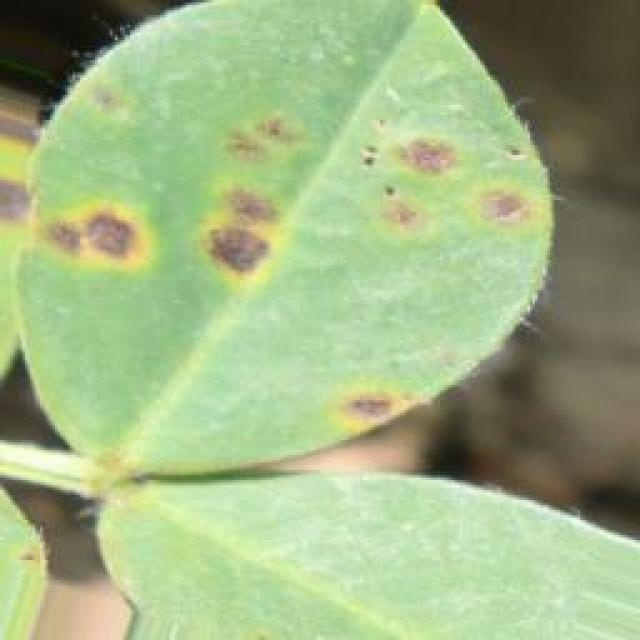Sigatoka: (190, 181, 286, 290), (39, 199, 141, 281), (325, 375, 430, 446), (458, 173, 554, 244), (368, 130, 471, 196), (225, 110, 312, 170), (368, 188, 427, 240)
